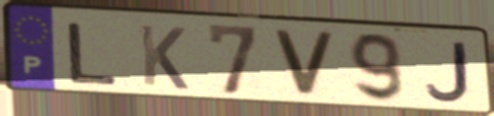7: (205, 21, 261, 99)
9: (345, 31, 408, 105)
J: (423, 40, 473, 104)
K: (136, 22, 192, 93)
L: (67, 20, 122, 87)
V: (268, 27, 339, 101)
